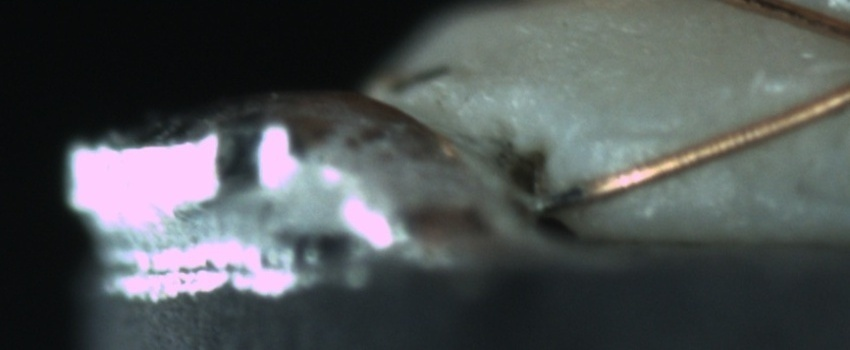DL: (585, 104, 706, 162)
TS: (527, 183, 580, 215)
